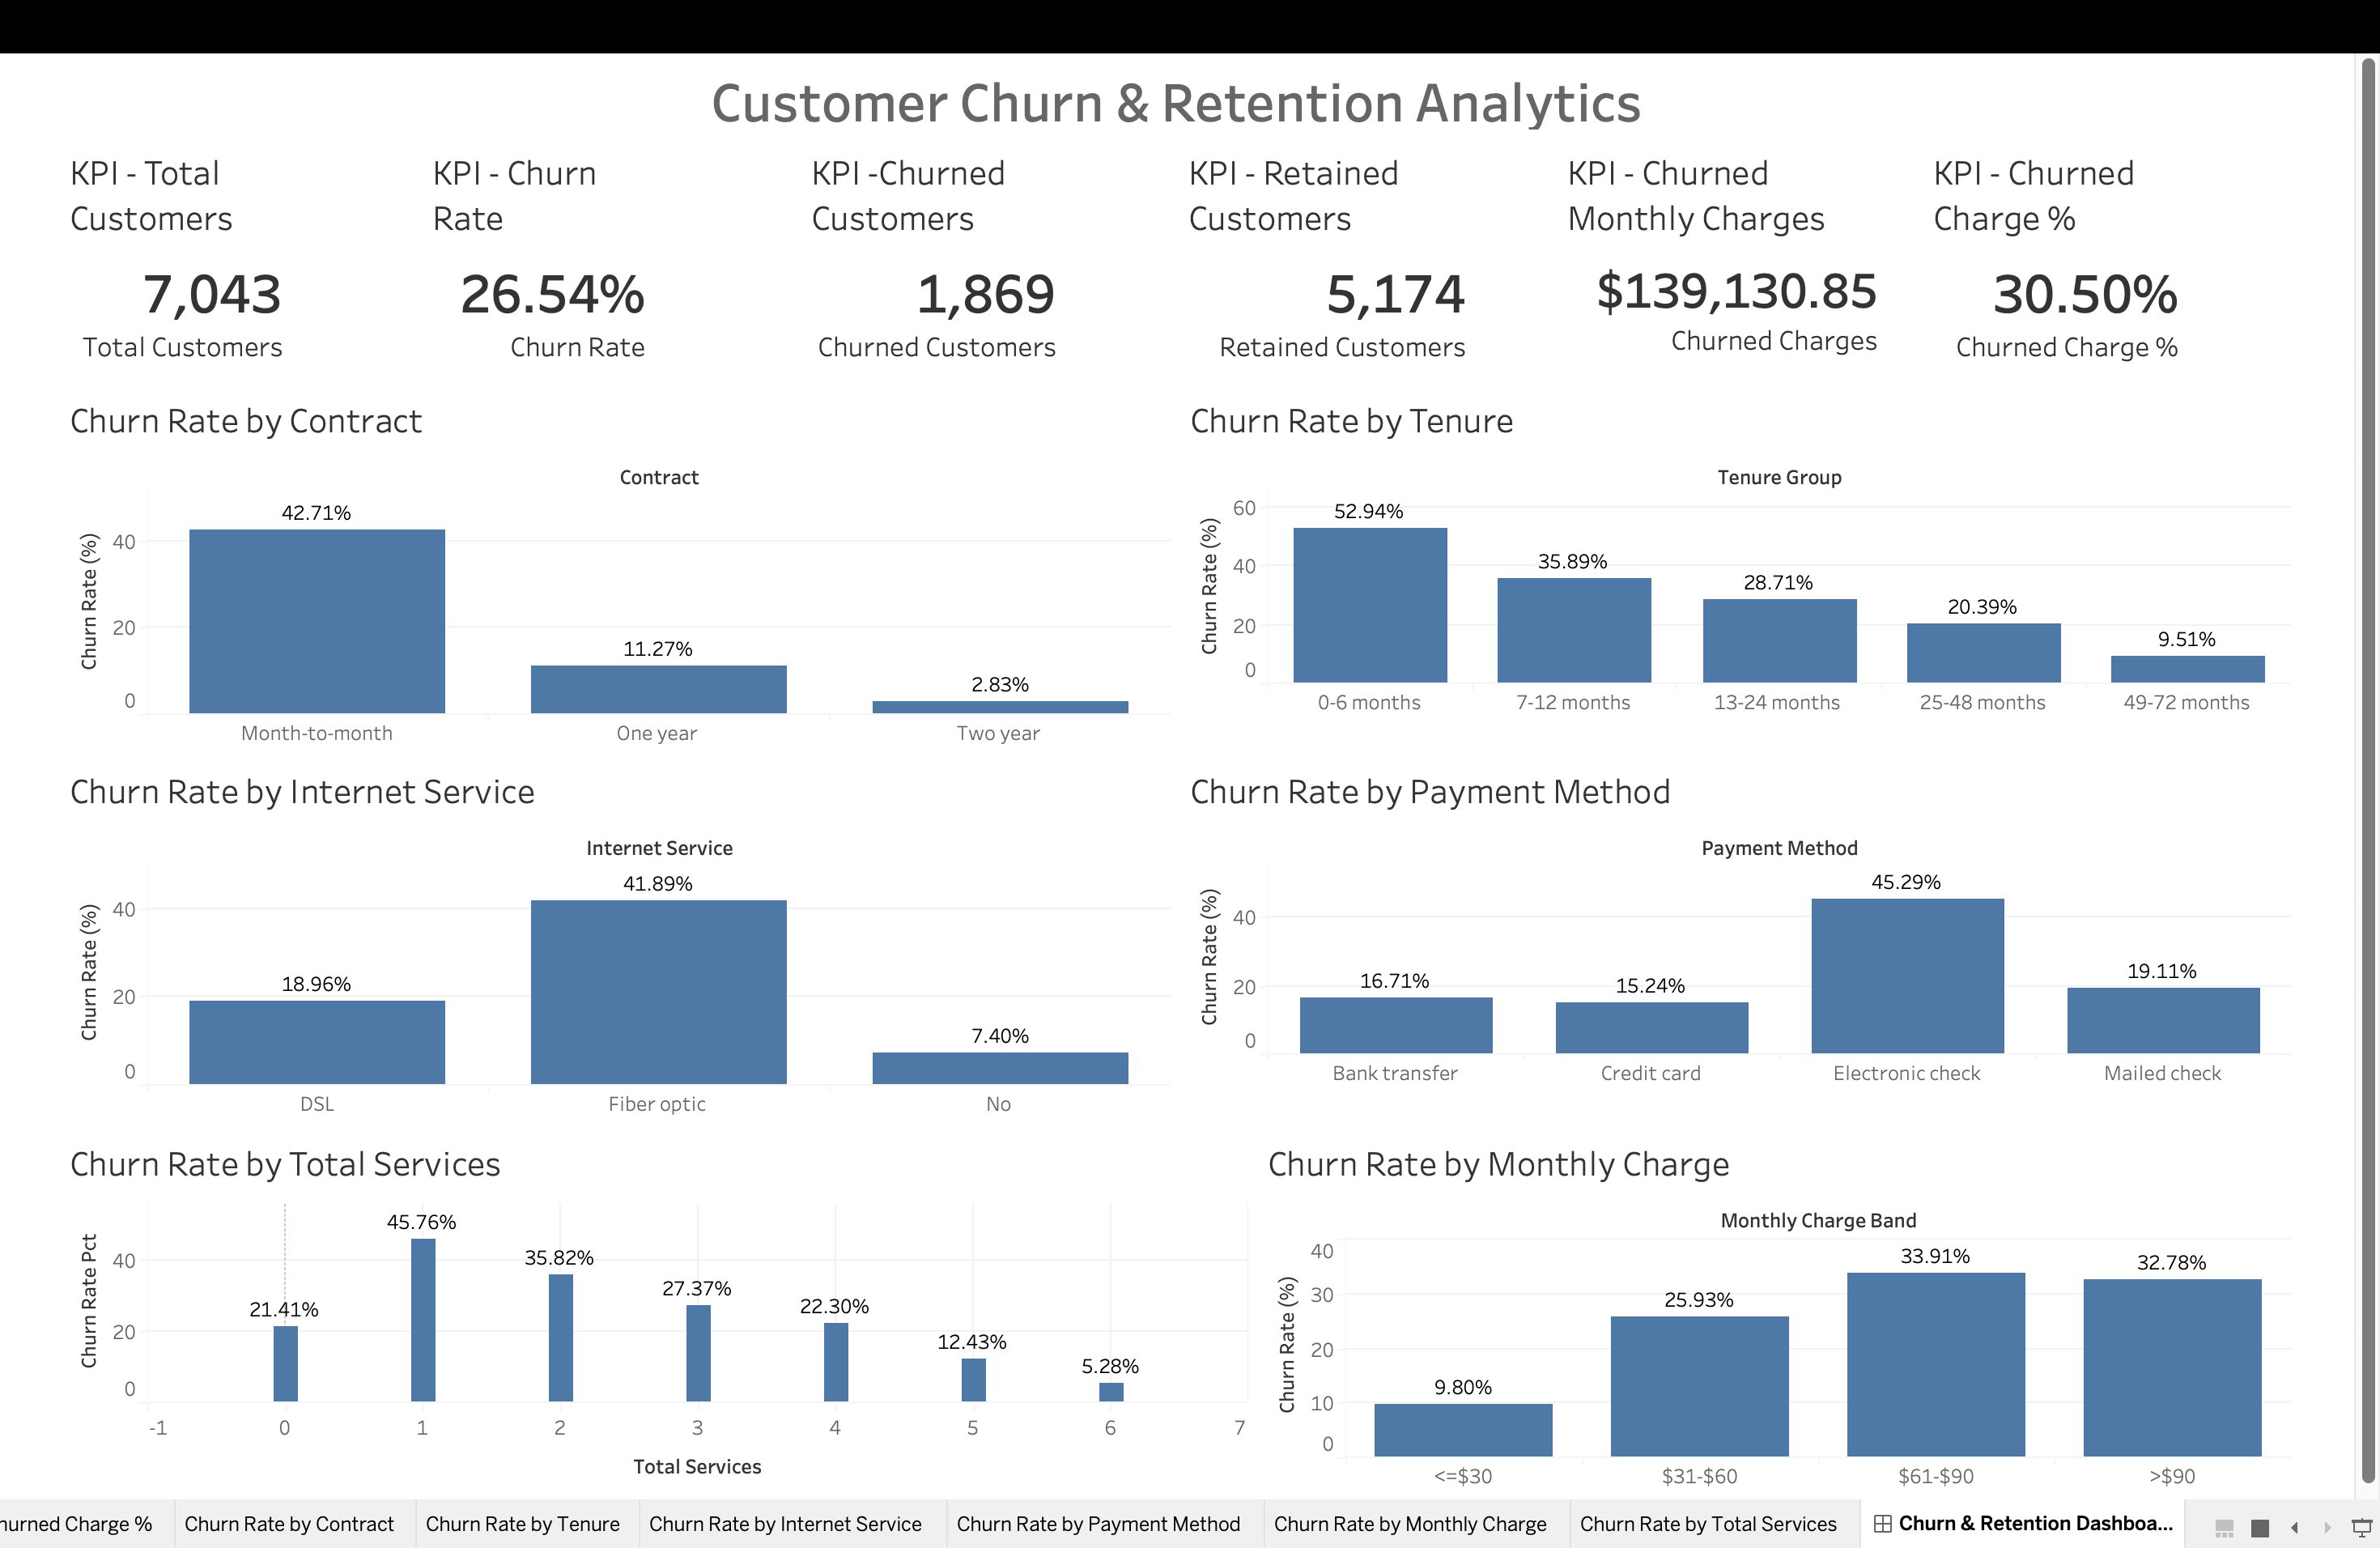

What the dashboard file says about the page in this screenshot:
{"tool":"tableau","page":{"name":"Churn & Retention Dashboard","canvas":[1400,900],"ordinal":0},"visuals":[{"type":"text","box":[8,8,1384,43]},{"type":"worksheet","title":"KPI - Total Customers","mark":"Automatic","box":[8,51,224,146]},{"type":"worksheet","title":"KPI - Churn Rate","mark":"Automatic","box":[232,51,233.5,146]},{"type":"worksheet","title":"KPI -Churned Customers","mark":"Automatic","box":[465.5,51,233.5,146]},{"type":"worksheet","title":"KPI - Retained Customers","mark":"Automatic","box":[699,51,233.5,146]},{"type":"worksheet","title":"KPI - Churned Monthly Charges","mark":"Automatic","box":[932.5,51,226,146]},{"type":"worksheet","title":"KPI - Churned Charge %","mark":"Automatic","box":[1158.5,51,233.5,146]},{"type":"worksheet","title":"Churn Rate by Contract","mark":"Automatic","rows":["churn_rate_pct"],"cols":["contract"],"box":[8,204,692,229.3]},{"type":"worksheet","title":"Churn Rate by Tenure","mark":"Automatic","rows":["churn_rate_pct"],"cols":["tenure_group"],"box":[700,204,692,229.3]},{"type":"worksheet","title":"Churn Rate by Internet Service","mark":"Automatic","rows":["churn_rate_pct"],"cols":["internet_service"],"box":[8,433.3,692,229.3]},{"type":"worksheet","title":"Churn Rate by Payment Method","mark":"Automatic","rows":["churn_rate_pct"],"cols":["payment_method"],"box":[700,433.3,692,229.3]},{"type":"worksheet","title":"Churn Rate by Total Services","mark":"Bar","rows":["churn_rate_pct"],"cols":["total_services"],"box":[8,662.7,740,229.3]},{"type":"worksheet","title":"Churn Rate by Monthly Charge","mark":"Automatic","rows":["churn_rate_pct"],"cols":["monthly_charge_band"],"box":[748,662.7,644,229.3]}]}

Visuals, with their boxes in screenshot pixels (x1, y1, x2, y2):
text: 38/0/2358/49
"KPI - Total Customers" worksheet: 38/49/414/293
"KPI - Churn Rate" worksheet: 414/49/805/293
"KPI -Churned Customers" worksheet: 805/49/1196/293
"KPI - Retained Customers" worksheet: 1196/49/1588/293
"KPI - Churned Monthly Charges" worksheet: 1588/49/1967/293
"KPI - Churned Charge %" worksheet: 1967/49/2358/293
"Churn Rate by Contract" worksheet: 38/305/1198/689
"Churn Rate by Tenure" worksheet: 1198/305/2358/689
"Churn Rate by Internet Service" worksheet: 38/689/1198/1074
"Churn Rate by Payment Method" worksheet: 1198/689/2358/1074
"Churn Rate by Total Services" worksheet (Bar marks): 38/1074/1279/1458
"Churn Rate by Monthly Charge" worksheet: 1279/1074/2358/1458
